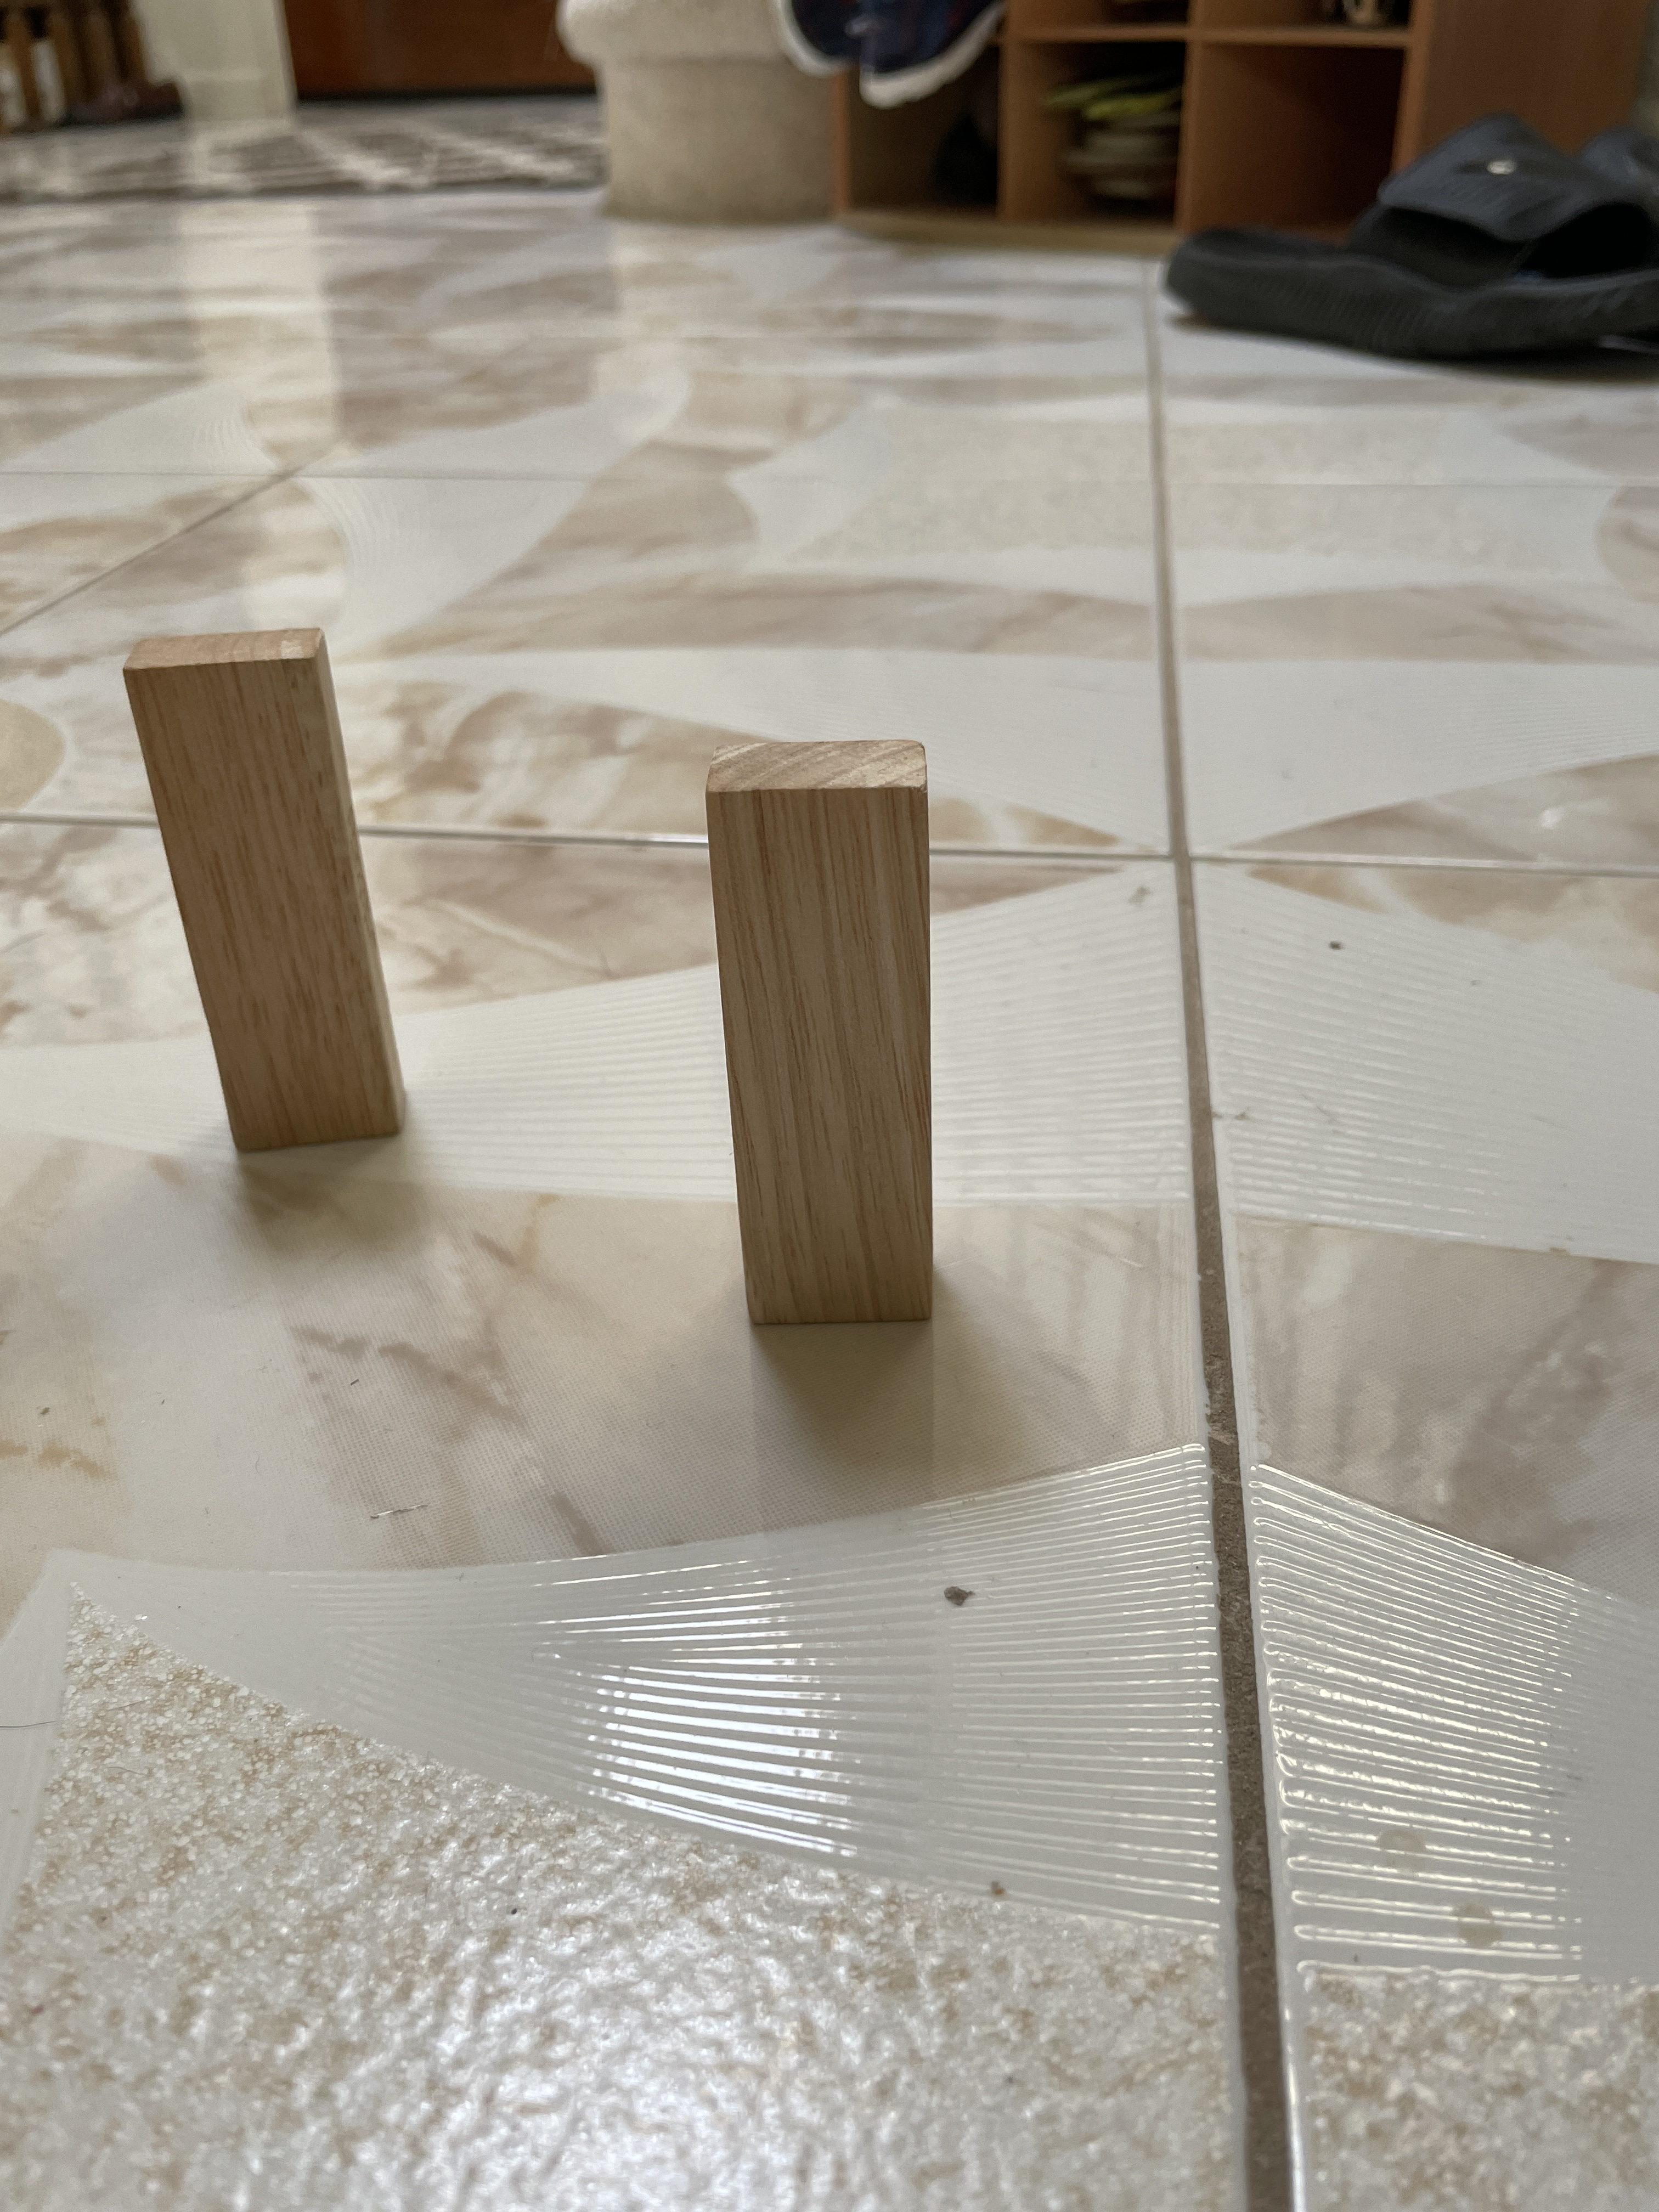jenga: (115, 625, 444, 1143), (694, 735, 958, 1322)
